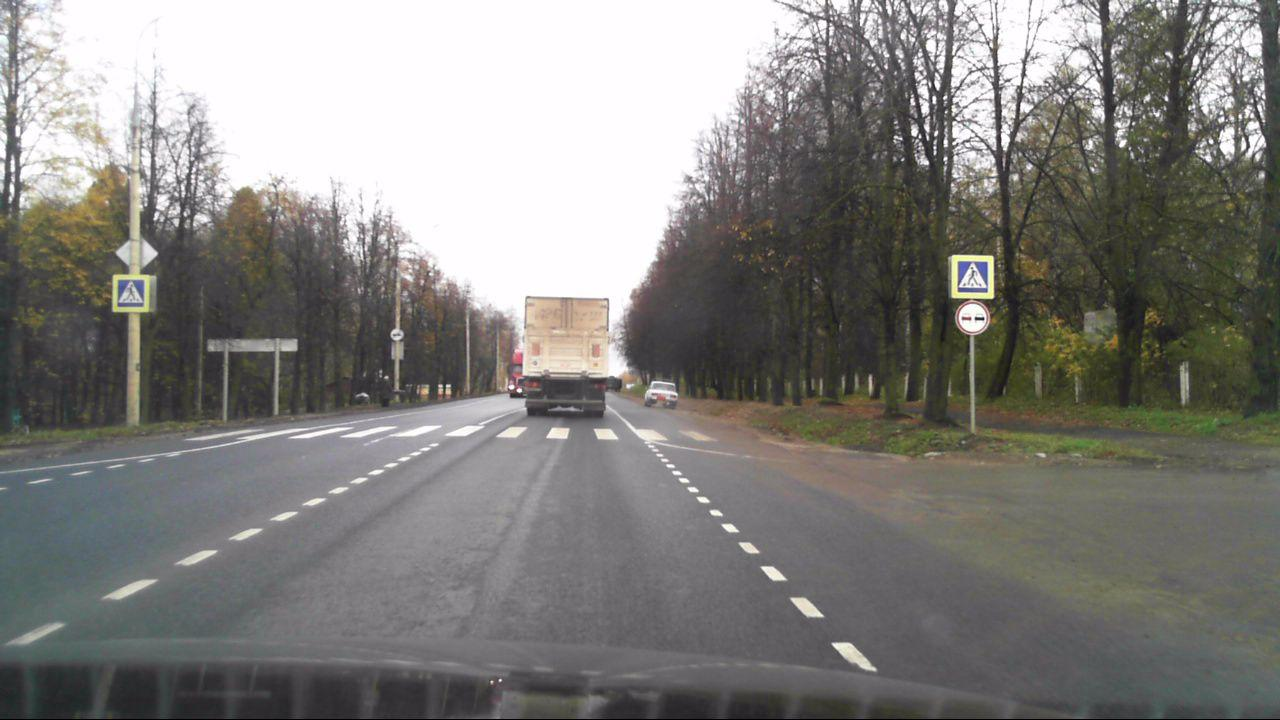3_20: (954, 300, 989, 334)
3_21: (390, 327, 402, 339)
5_19_1: (955, 258, 996, 296)
5_19_2: (118, 280, 145, 304)
